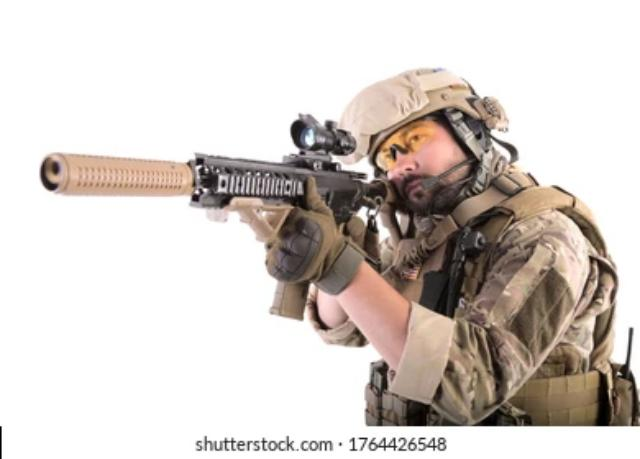other: (314, 65, 600, 426)
